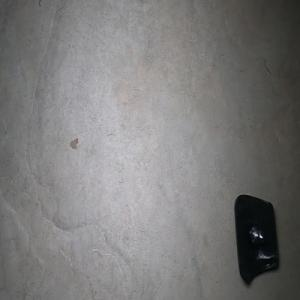LuggagePart: (233, 193, 279, 284)
